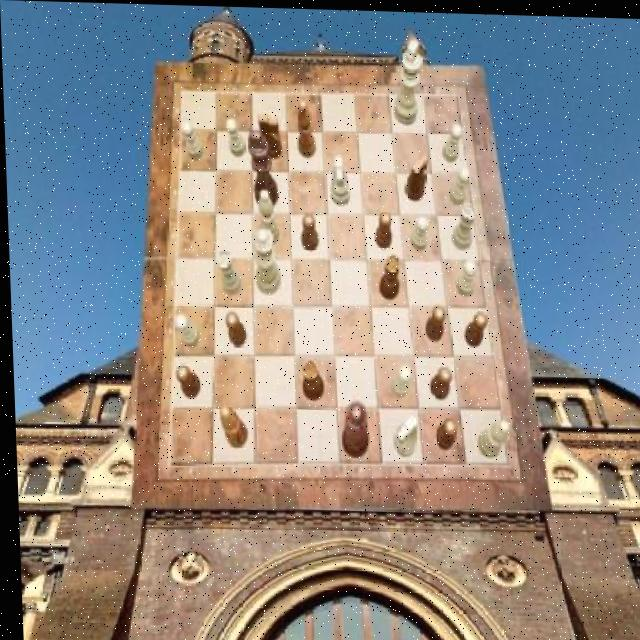bishop: (216, 403, 244, 446), (296, 98, 316, 156)
black-bishop: (247, 129, 278, 208)
black-king: (403, 153, 428, 201), (257, 112, 281, 158)
black-knight: (173, 362, 198, 397), (463, 309, 487, 344), (427, 364, 451, 398), (422, 302, 444, 339), (432, 416, 455, 449), (223, 310, 244, 345), (373, 210, 391, 248), (300, 213, 318, 249)
black-pawn: (337, 398, 366, 456)
black-queen: (376, 252, 400, 298), (300, 359, 323, 400)
black-rook: (475, 417, 508, 456), (256, 188, 278, 243)
white-bishop: (390, 37, 422, 123)
white-king: (390, 414, 415, 456), (329, 154, 349, 203)
white-knight: (440, 121, 462, 162), (446, 164, 469, 203), (180, 119, 202, 158), (173, 313, 198, 347), (225, 116, 245, 155), (455, 256, 476, 293), (389, 363, 411, 397), (409, 213, 428, 248)
white-pawn: (251, 227, 280, 294)
white-queen: (450, 201, 477, 248), (215, 248, 241, 294)
